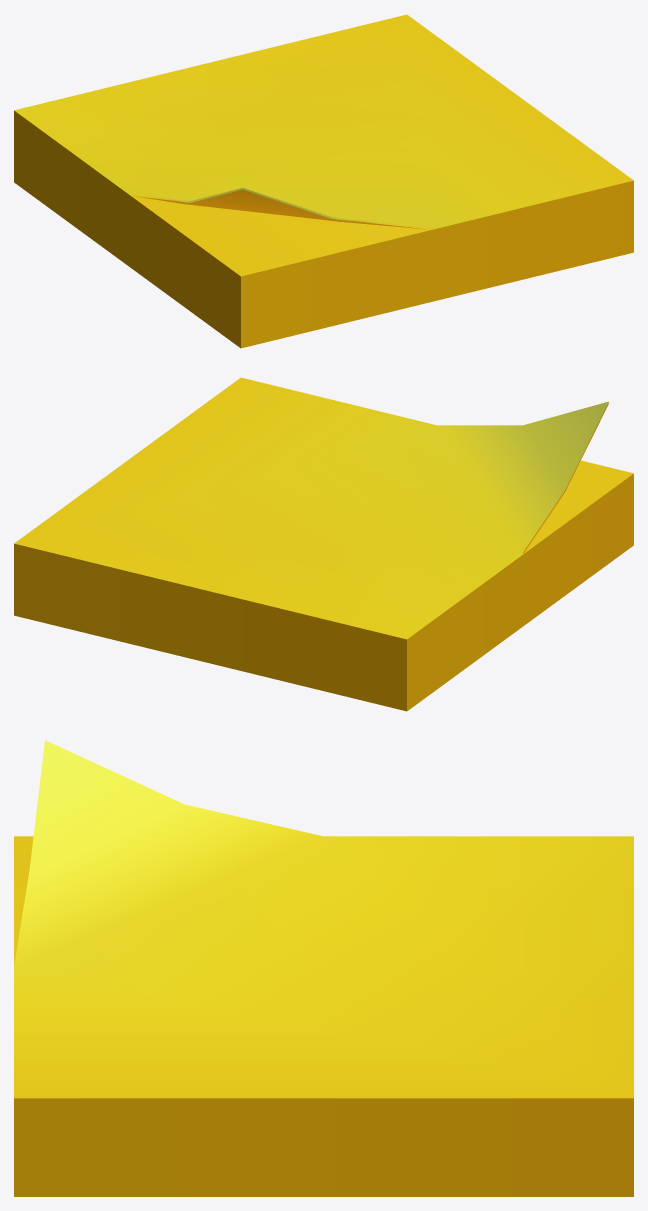
File: CR_Postit_001.FBX
3 views of the same model, one above another, from view 1: azimuth 30°, elevation 25°; view 2: azimuth 150°, elevation 25°; view 3: azimuth 270°, elevation 25° (orthographic). The views are drawn at different scales.
Parts seen in each view (by area): view 1: CR_Postit_001; view 2: CR_Postit_001; view 3: CR_Postit_001.
Part boxes in pixels (x1,y1,x2,y2): CR_Postit_001: (14, 14, 633, 348); CR_Postit_001: (14, 377, 633, 711); CR_Postit_001: (14, 740, 633, 1196).
Bounding box in the file's own units: 5.15 × 1.87 × 5.15.
Materials: 1 (1 with a texture image).
